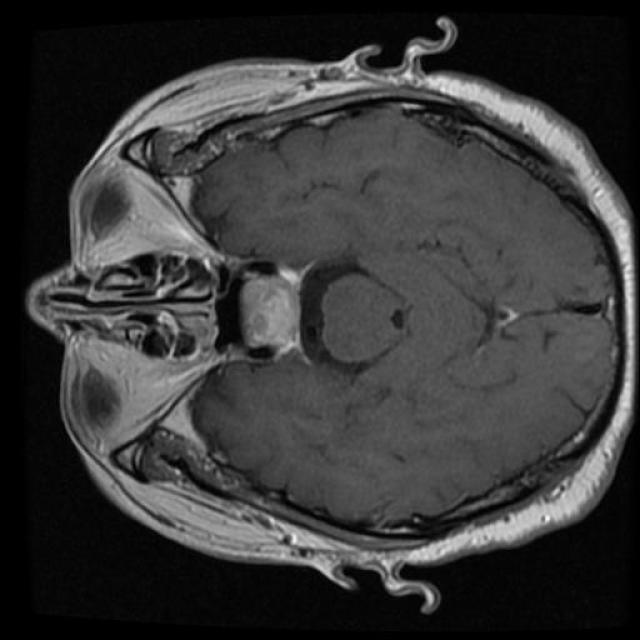Pituitary: (237, 262, 301, 360)
